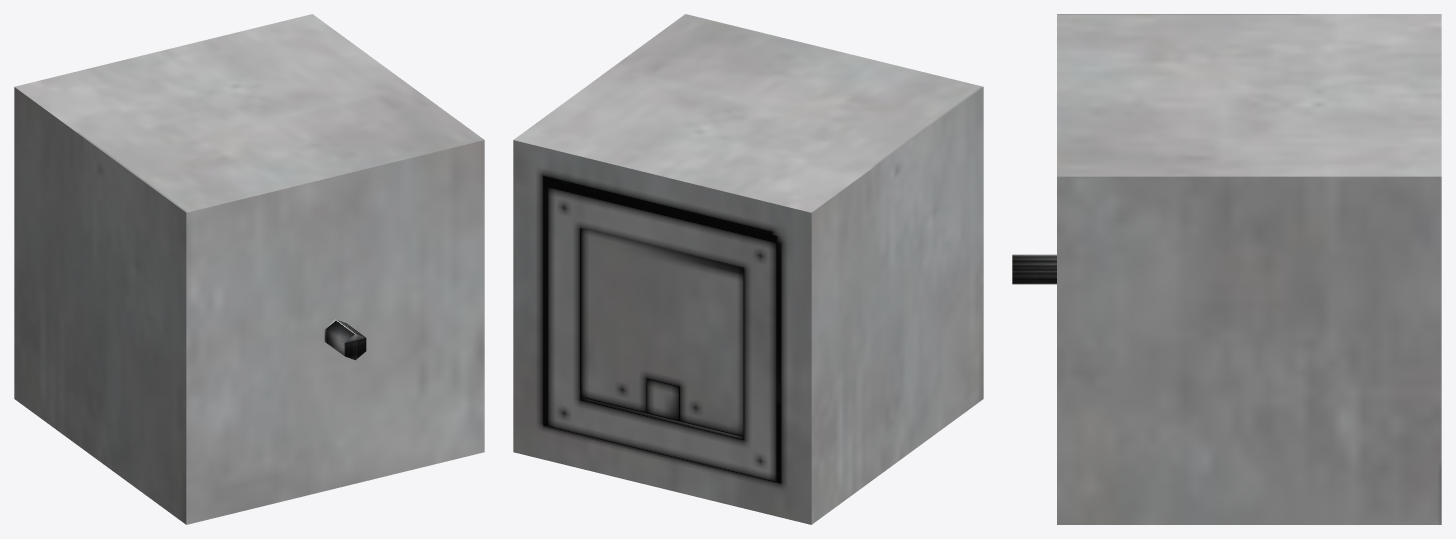
File: Gun1.fbx
3 renders of one model, left to right at view 1: azimuth 30°, elevation 25°; view 2: azimuth 150°, elevation 25°; view 3: azimuth 270°, elevation 25°, orthographic. The views are drawn at different scales.
Visible parts, largest first — view 1: WeaponBox, Sphere; view 2: WeaponBox, WeaponBoxDoor; view 3: WeaponBox, Sphere.
Boxes of the visible parts, left/top/right/bottom form: WeaponBox: left=14, top=14, right=484, bottom=524; Sphere: left=324, top=319, right=366, bottom=360; WeaponBox: left=513, top=14, right=983, bottom=524; WeaponBoxDoor: left=581, top=228, right=743, bottom=436; WeaponBox: left=1057, top=14, right=1441, bottom=524; Sphere: left=1012, top=254, right=1056, bottom=284.
Size of the model in its own units: 100 by 100 by 112.
